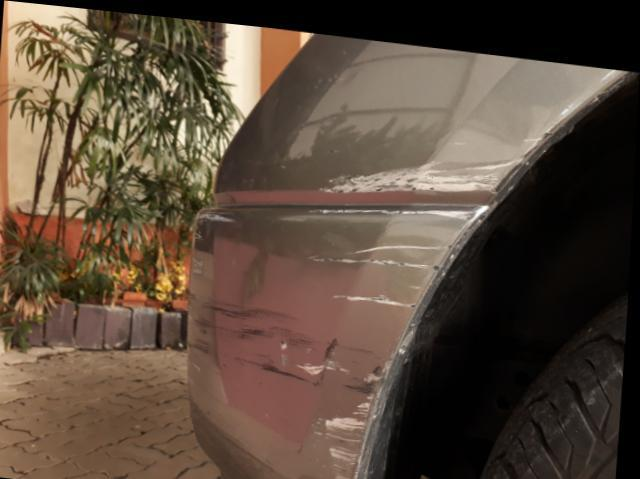scratch: (185, 146, 521, 479)
